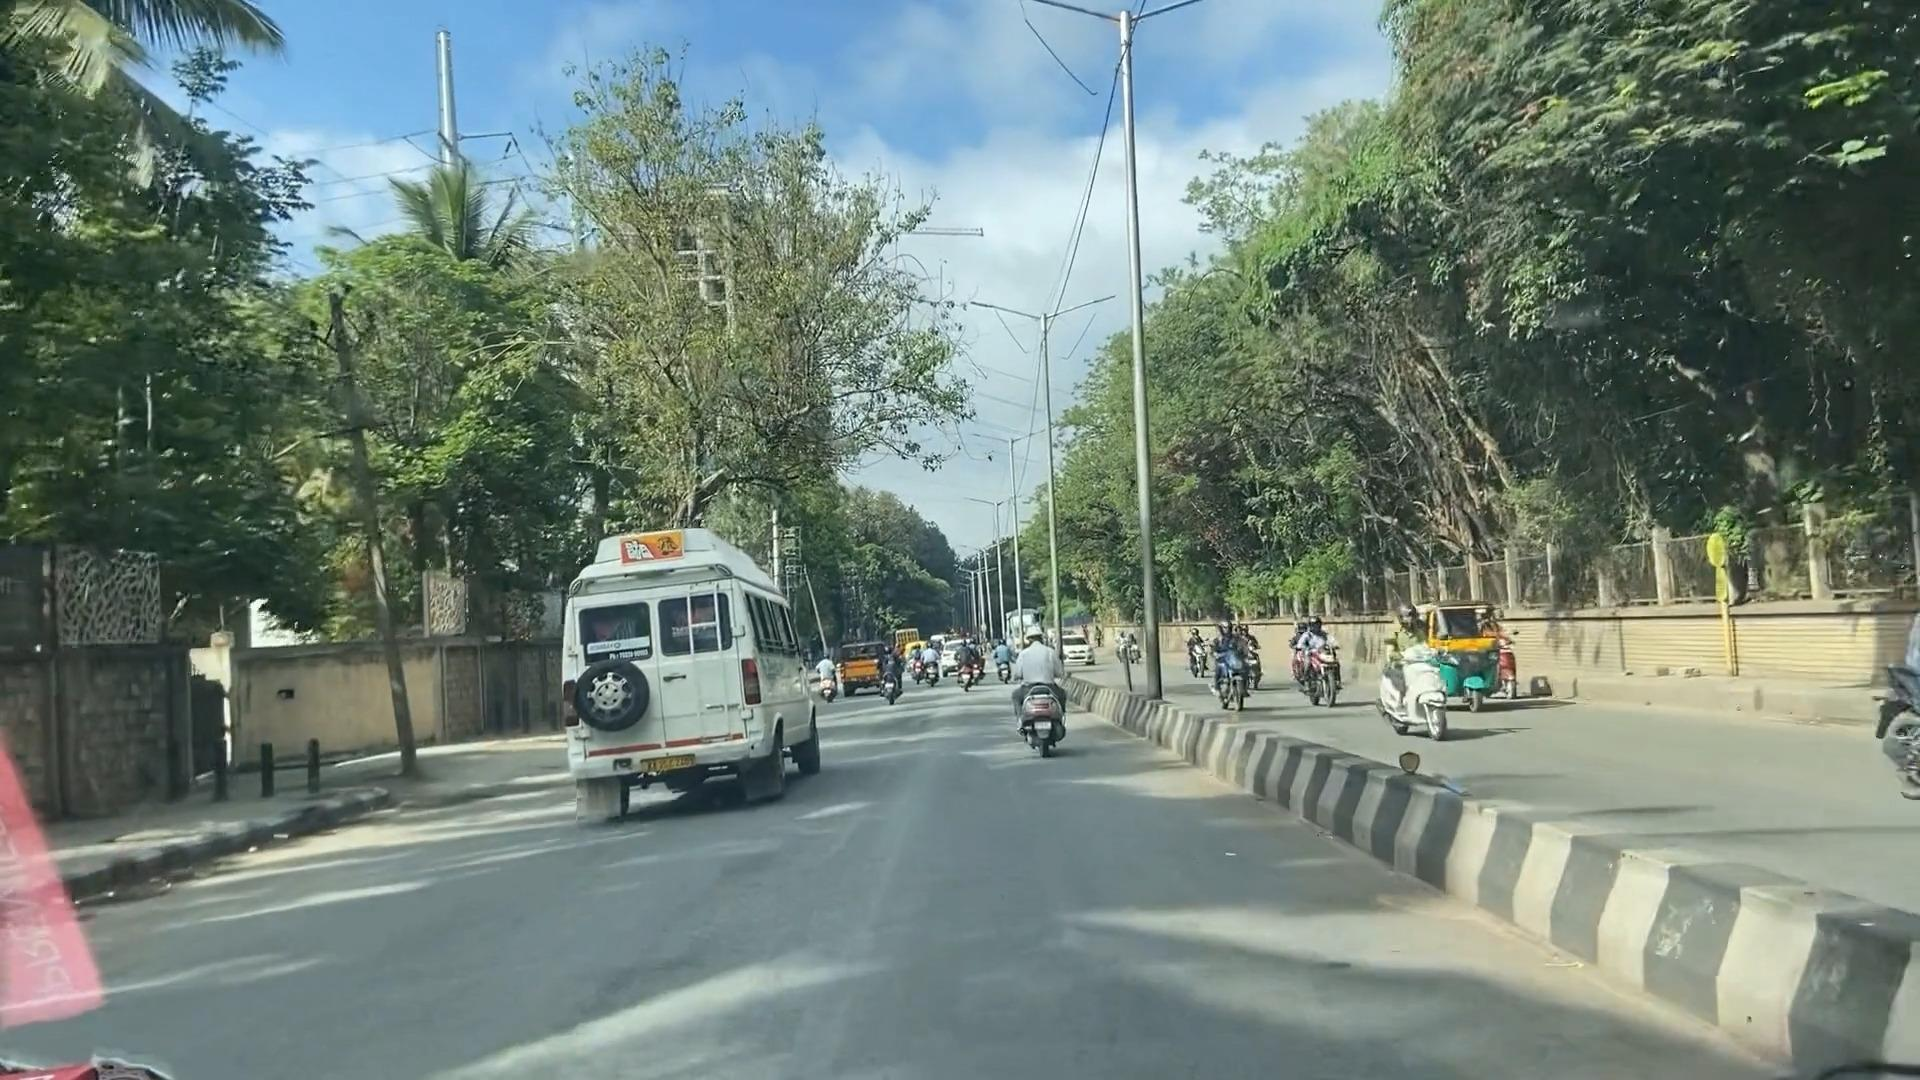HMV: (558, 510, 839, 831)
LMV: (993, 650, 1089, 758)
